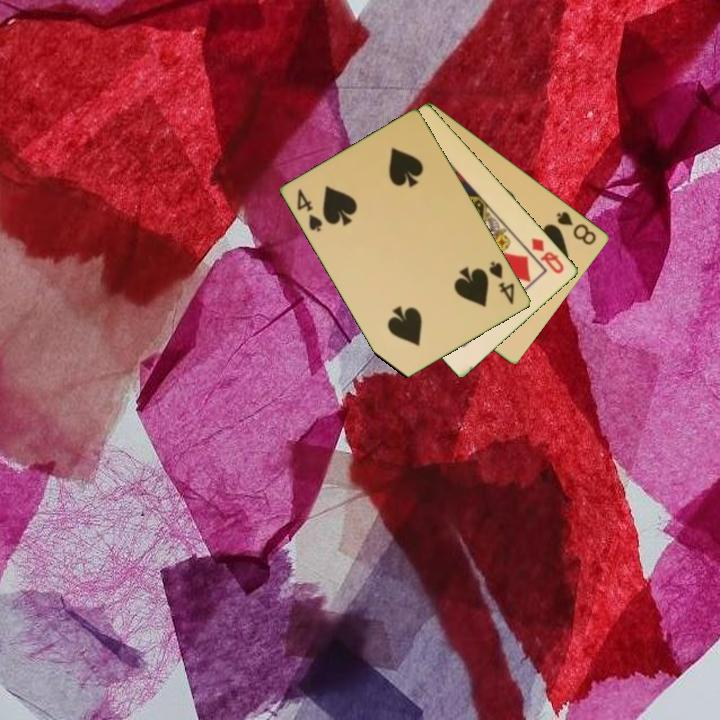4s: (485, 258, 518, 308), (294, 185, 326, 235)
8s: (553, 207, 600, 248)
Qd: (528, 234, 567, 277)
